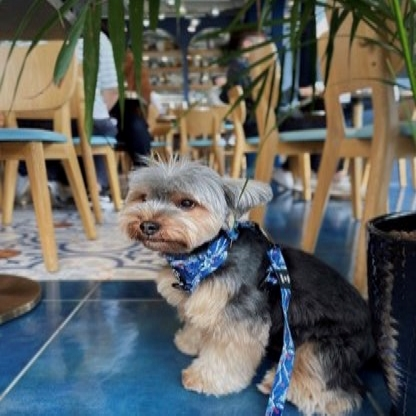yorkshire: (113, 151, 376, 411)
